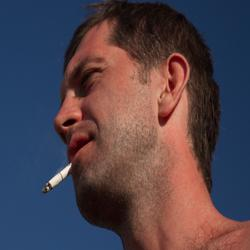cigarette: (42, 160, 73, 194)
